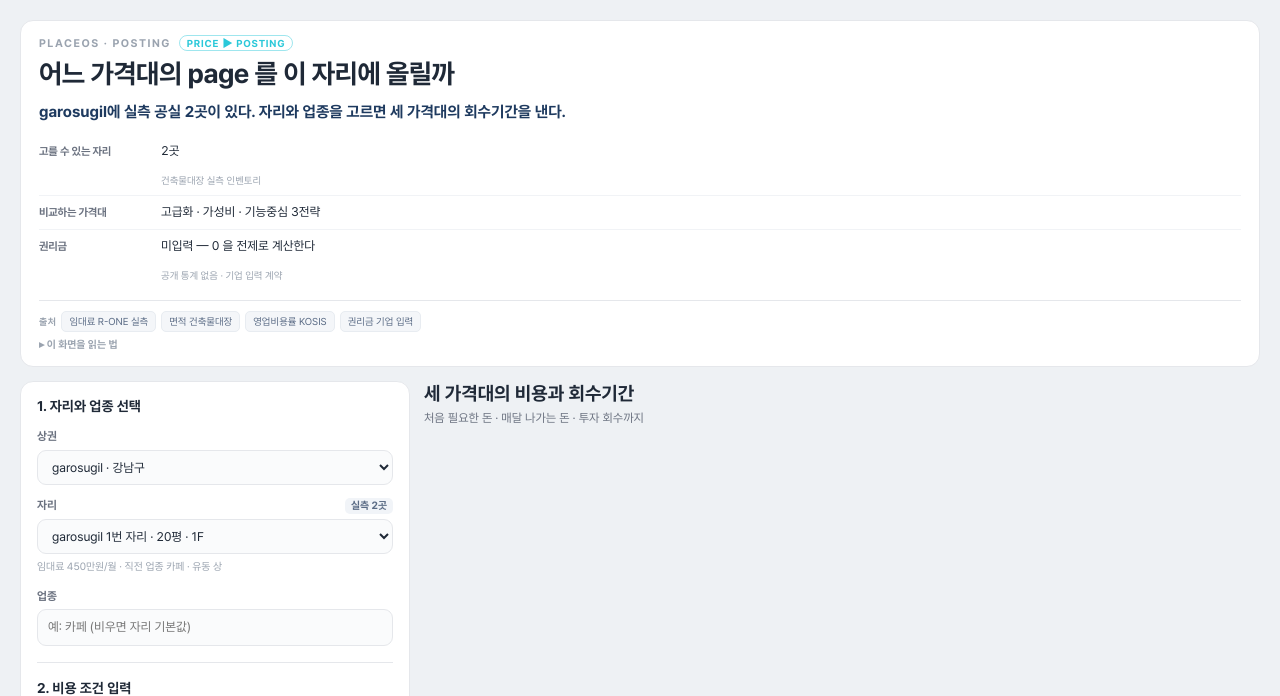
Test case: Posting — 입력과 결과의 대응 › 늦게 도착한 이전 자리 응답을 표시하지 않는다
Select "garosugil 2번 자리 · 21평 · 1F" in the dropdown labelled "자리 실측 2곳 임대료 450만원/월 · 직전 업종 카페 · 유동 상" at (215, 537), box 37,519 -> 393,554
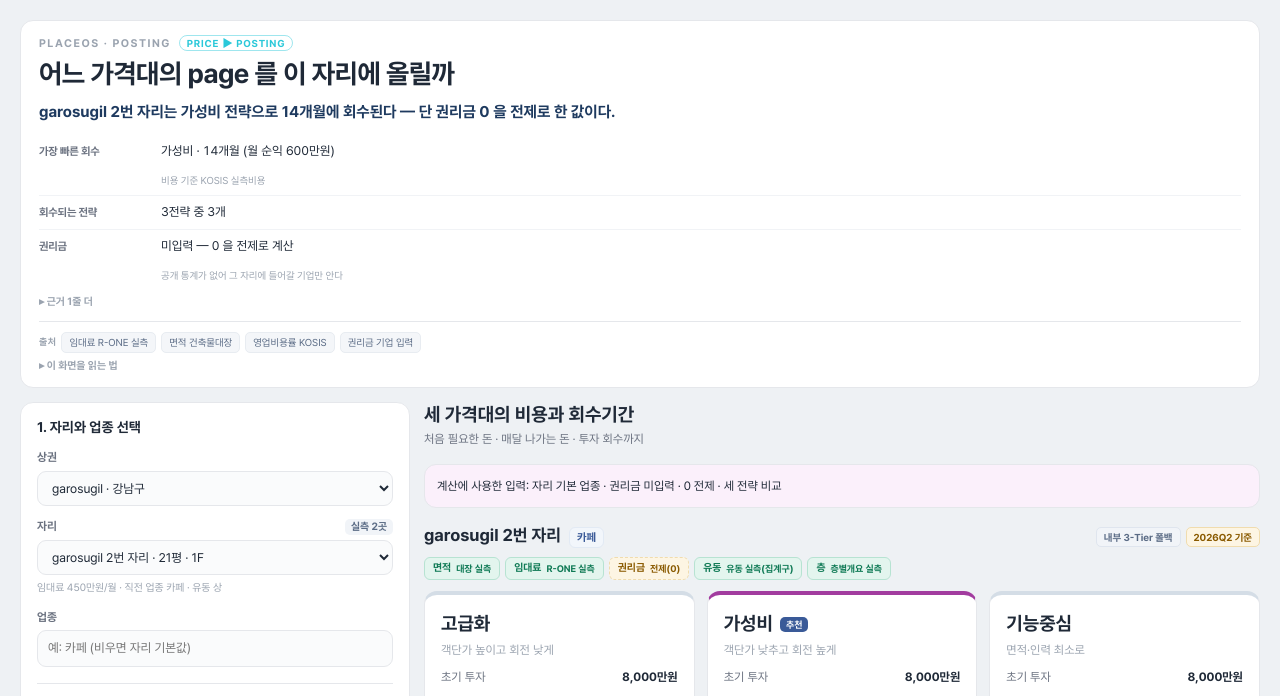
expect the text "전제(0)" is shown: met, box 650,562 -> 680,575
expect the text "내부 3-Tier 폴백" is shown: met, box 1096,527 -> 1180,547
